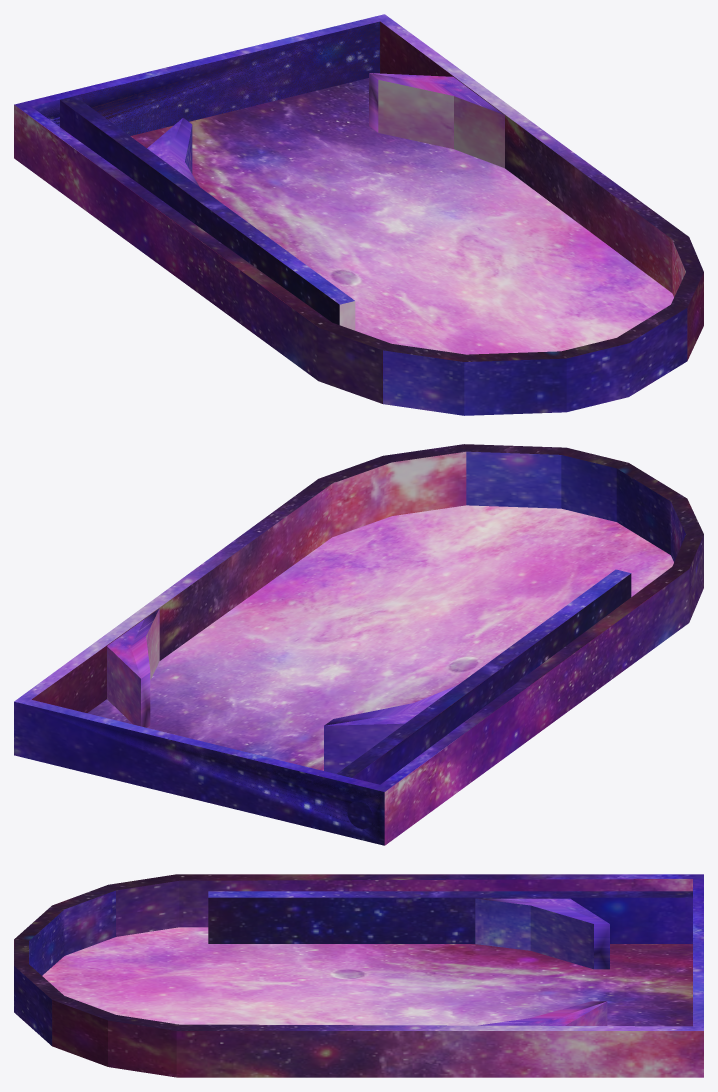
Rendered from pboard.obj.
3 renders of one model, top to bottom at view 1: azimuth 30°, elevation 25°; view 2: azimuth 150°, elevation 25°; view 3: azimuth 270°, elevation 25°, orthographic. The views are drawn at different scales.
Visible parts, largest first — view 1: Cube.001, Cube.002; view 2: Cube.001, Cube.002; view 3: Cube.001, Cube.002.
Part boxes in pixels (box(x1,y1,x2,y2)): Cube.001: box(14, 14, 703, 415); Cube.002: box(17, 22, 504, 186); Cube.001: box(14, 444, 703, 845); Cube.002: box(20, 608, 457, 844); Cube.001: box(14, 874, 703, 1077); Cube.002: box(475, 874, 703, 1025).
Size of the model in its own units: 14.32 by 2 by 26.66.
